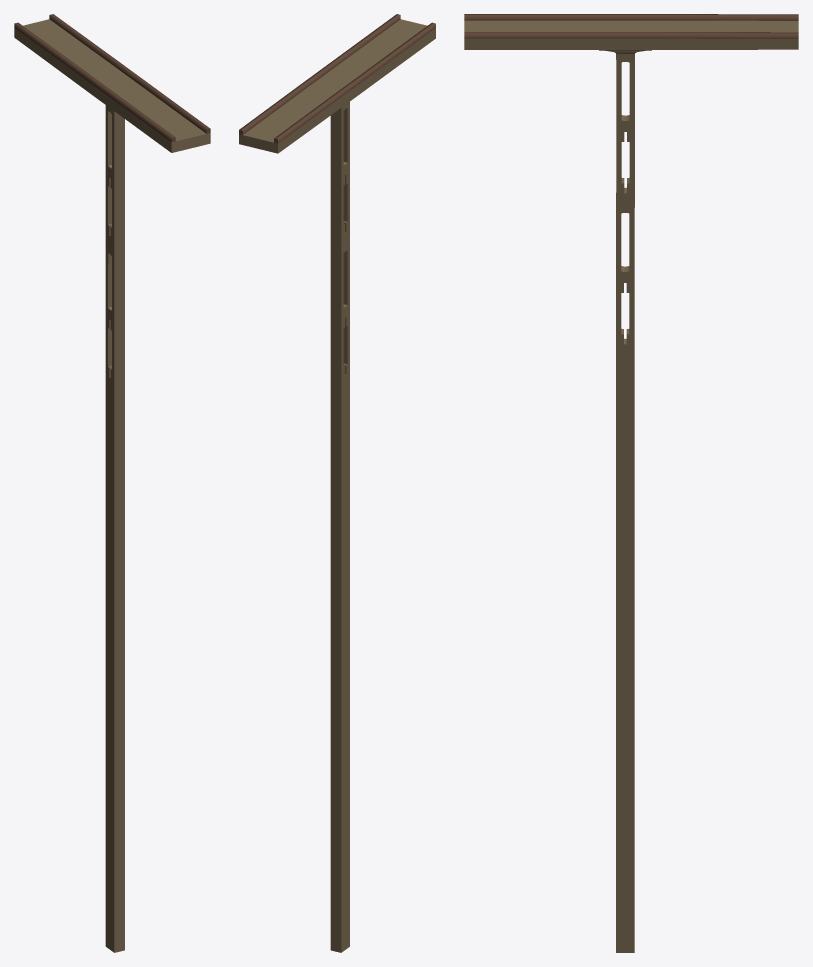
File: Bridge.fbx
The picture shows the model from 3 angles, left to right: view 1: azimuth 30°, elevation 25°; view 2: azimuth 150°, elevation 25°; view 3: azimuth 270°, elevation 25°; orthographic projection. The views are drawn at different scales.
Parts seen in each view (by area): view 1: Bridge1; view 2: Bridge1; view 3: Bridge1.
Part boxes in pixels (x1,y1,x2,y2): Bridge1: (14, 14, 210, 952); Bridge1: (239, 14, 435, 952); Bridge1: (464, 14, 798, 952).
Bounding box in the file's own units: 19.8 × 423 × 138.
